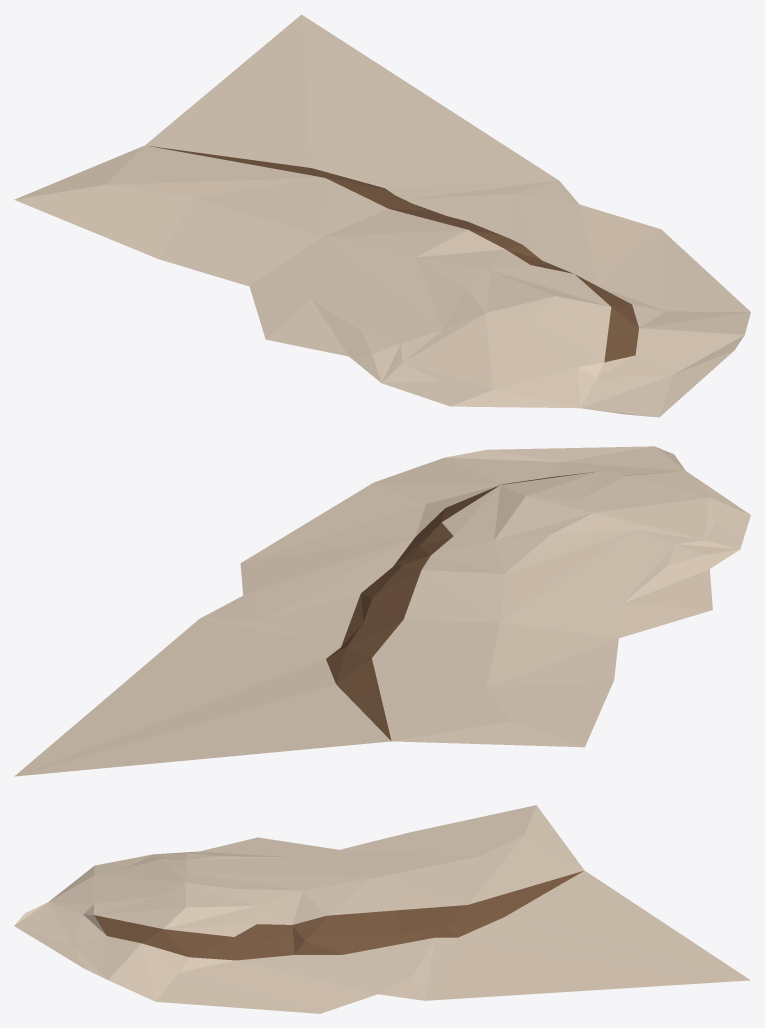
The model's file is Terrain_sandrock_008.fbx.
3 views of the same model, one above another, from view 1: azimuth 30°, elevation 25°; view 2: azimuth 150°, elevation 25°; view 3: azimuth 270°, elevation 25° (orthographic). The views are drawn at different scales.
Visible parts, largest first — view 1: Terrain_sandrock_008; view 2: Terrain_sandrock_008; view 3: Terrain_sandrock_008.
Part boxes in pixels (<box>): Terrain_sandrock_008: <box>14,14,750,417</box>; Terrain_sandrock_008: <box>14,446,750,776</box>; Terrain_sandrock_008: <box>14,805,750,1013</box>.
Bounding box in the file's own units: 16.32 × 1.54 × 28.61.
